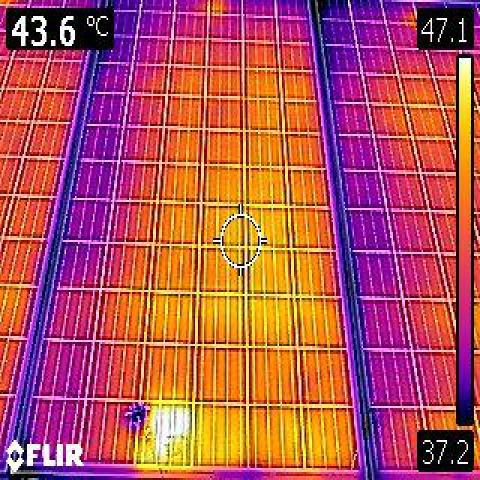fault: (137, 403, 195, 470)
